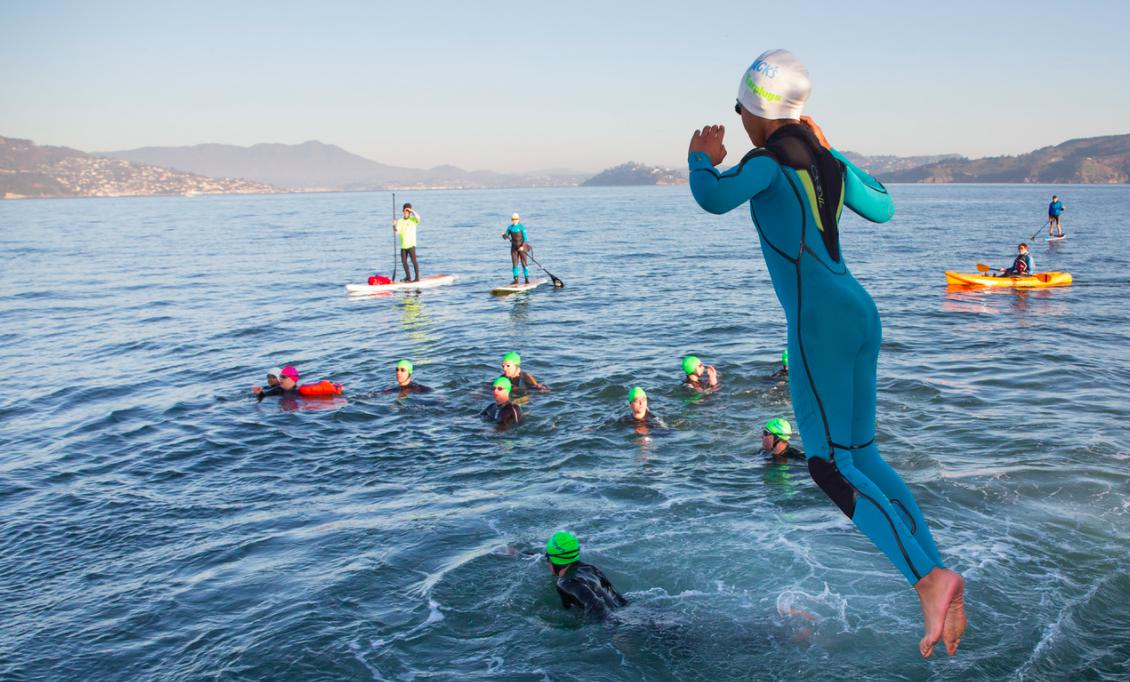swimmer: (543, 520, 623, 620), (241, 355, 306, 400), (372, 355, 436, 396), (474, 377, 520, 427), (752, 413, 794, 464), (677, 349, 718, 394), (492, 346, 538, 386), (620, 381, 659, 428)
